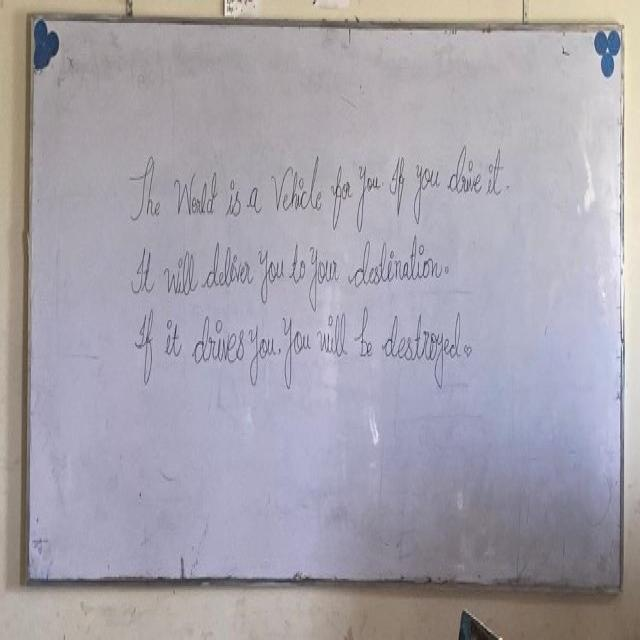White-board: (24, 15, 623, 591)
